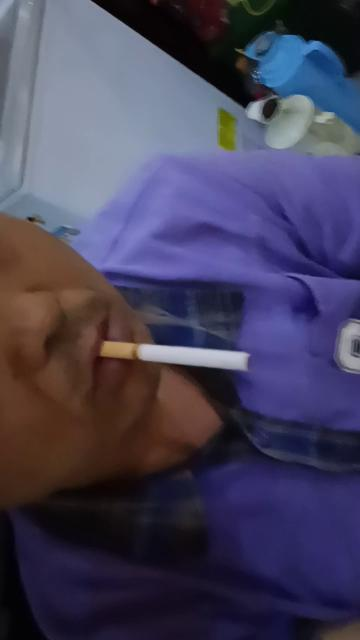Cigarette: (99, 340, 252, 372)
